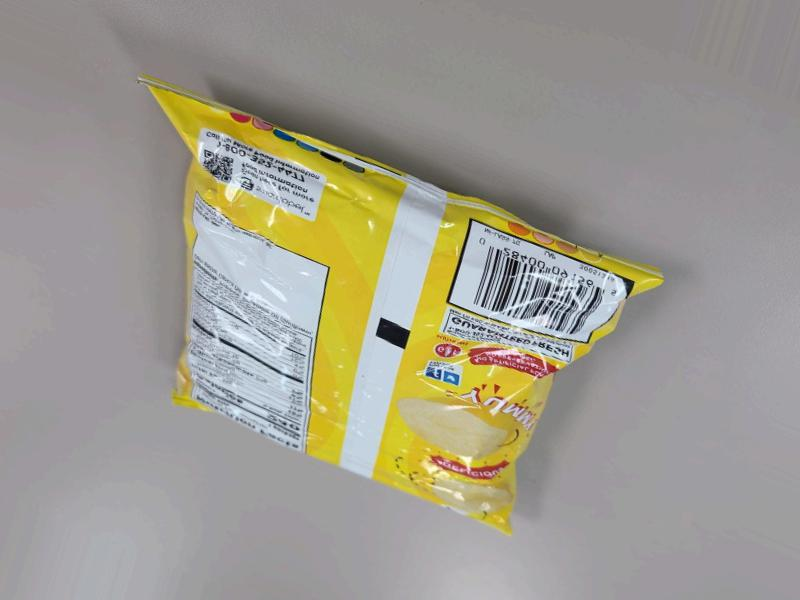lays: (231, 56, 691, 559)
